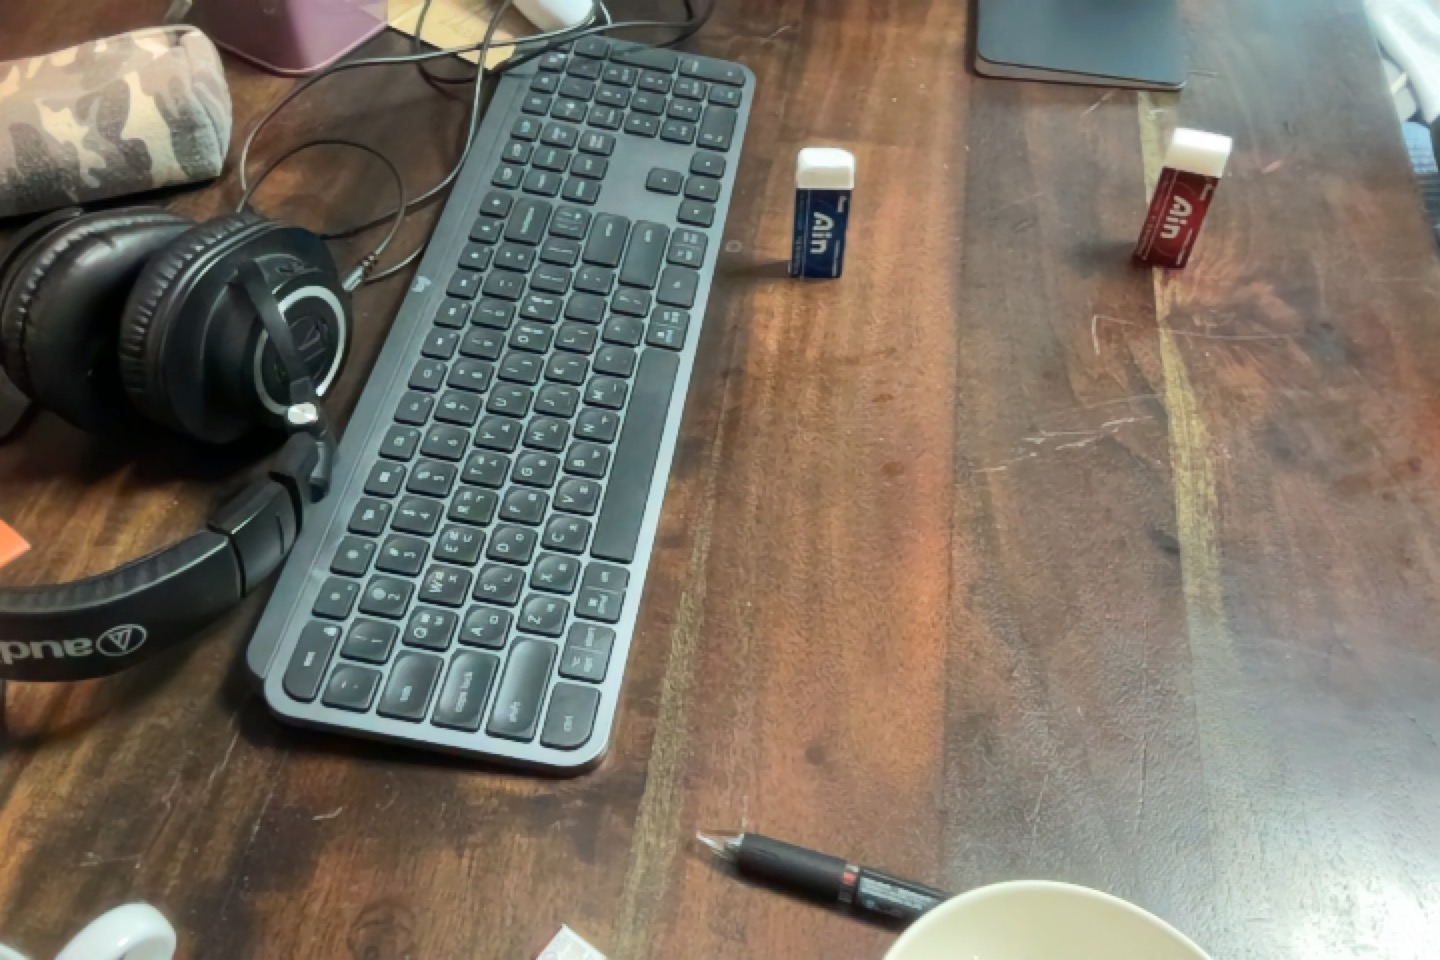blue: (783, 133, 857, 291)
red: (1131, 104, 1240, 298)
